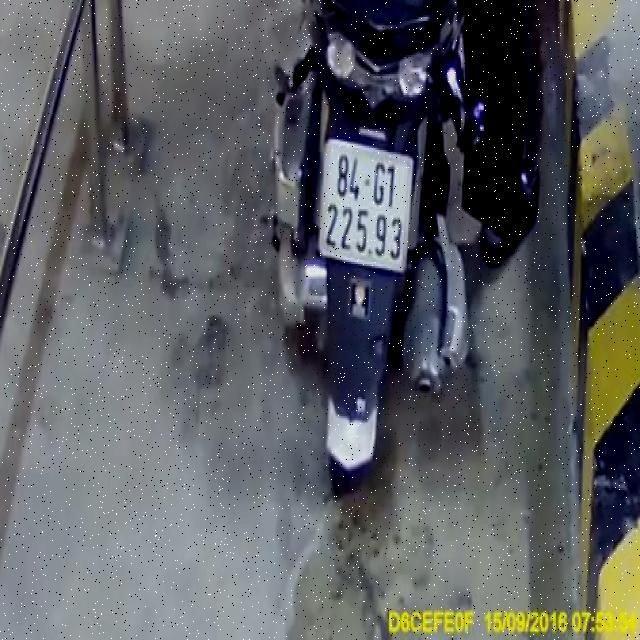1: (385, 161, 398, 212)
2: (340, 205, 354, 256), (324, 201, 338, 250)
3: (388, 213, 406, 264), (375, 208, 387, 262)
4: (348, 153, 366, 205)
5: (354, 205, 372, 256)
8: (333, 148, 351, 202)
G: (372, 156, 387, 208)
